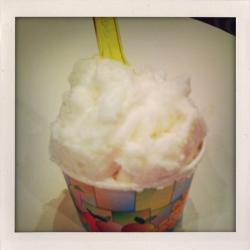icecream: (43, 40, 214, 224)
